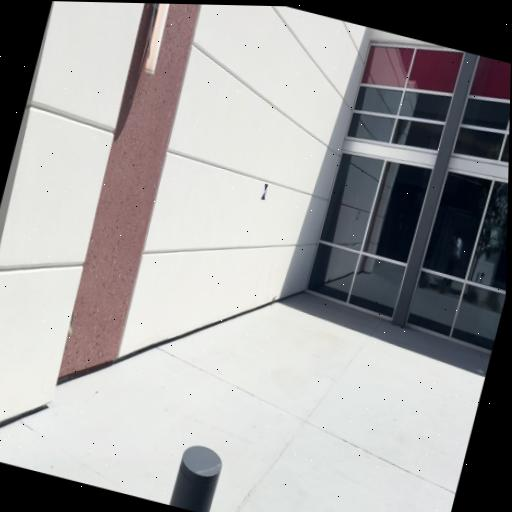target4: (260, 183, 270, 201)
